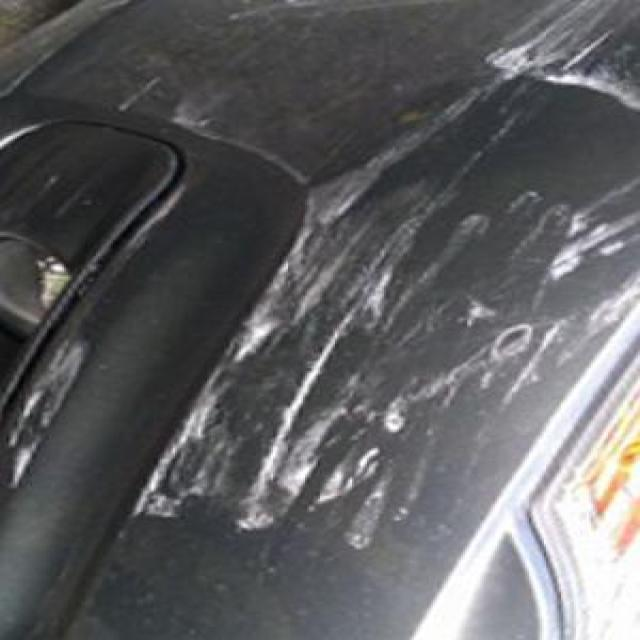scratch: (114, 9, 631, 572)
